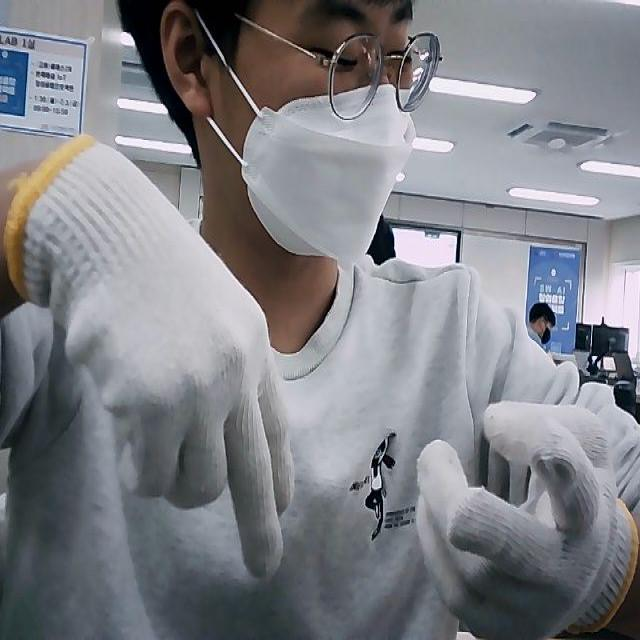gloves: (3, 132, 296, 578), (415, 400, 640, 640)
